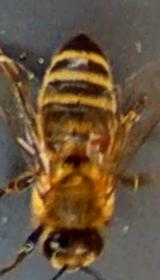varroa_mite: (77, 114, 128, 168)
